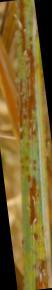Wheat: (9, 3, 39, 96), (23, 169, 47, 230), (14, 100, 42, 144), (24, 250, 50, 290)
